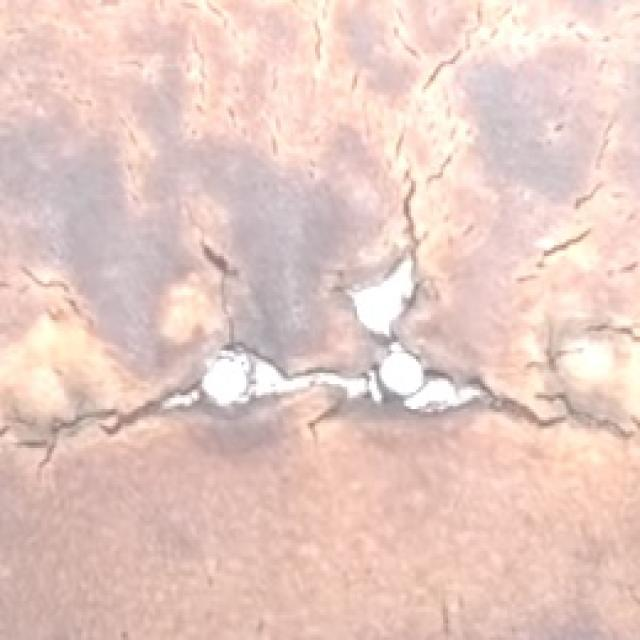crack: (63, 379, 196, 466), (201, 218, 248, 332), (540, 232, 602, 293), (397, 168, 437, 257), (540, 322, 572, 427)
